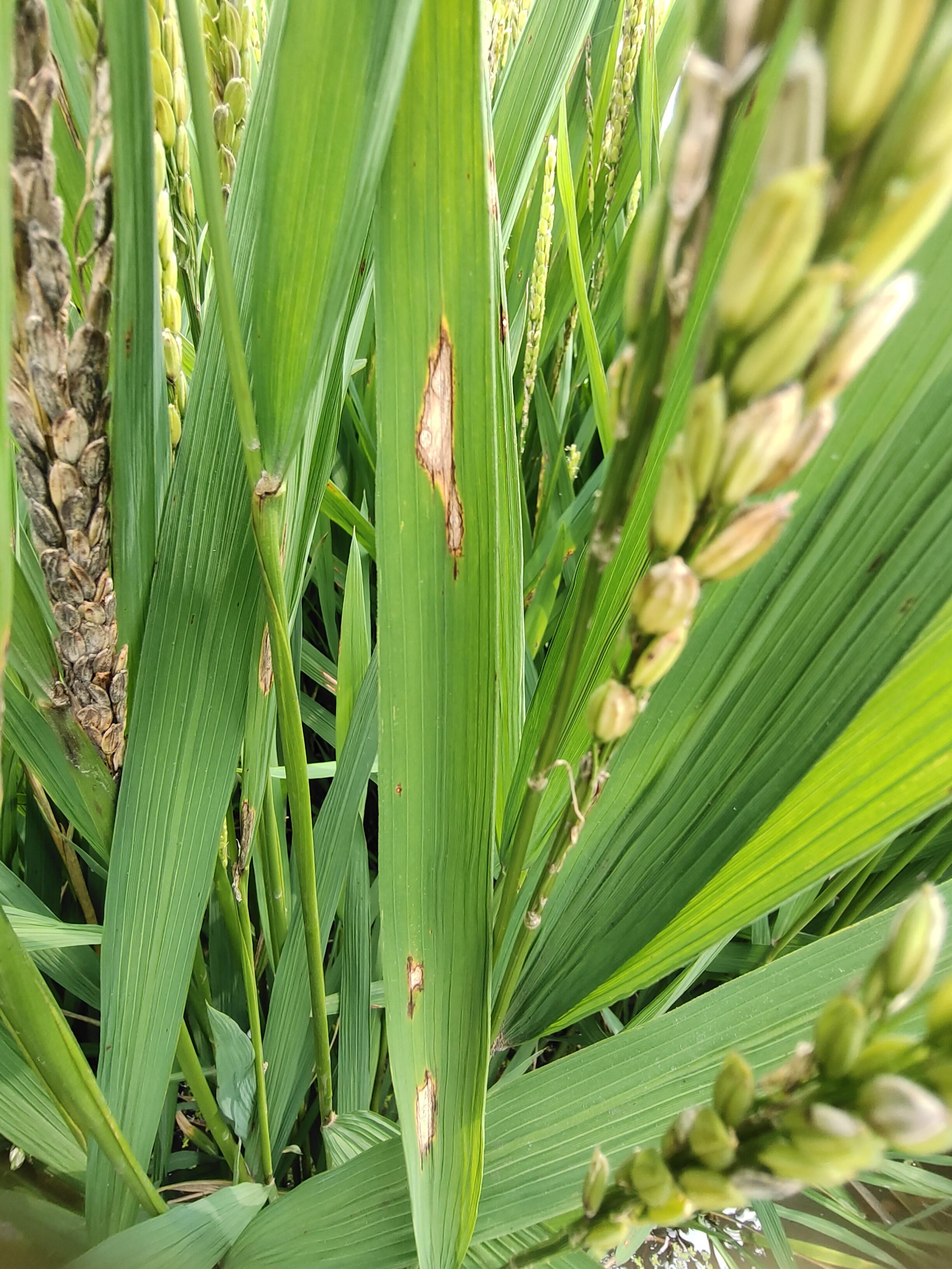LEAF: (371, 0, 498, 1268)
LEAF BLAST: (416, 295, 465, 581), (415, 1070, 437, 1172), (407, 954, 424, 1018)
